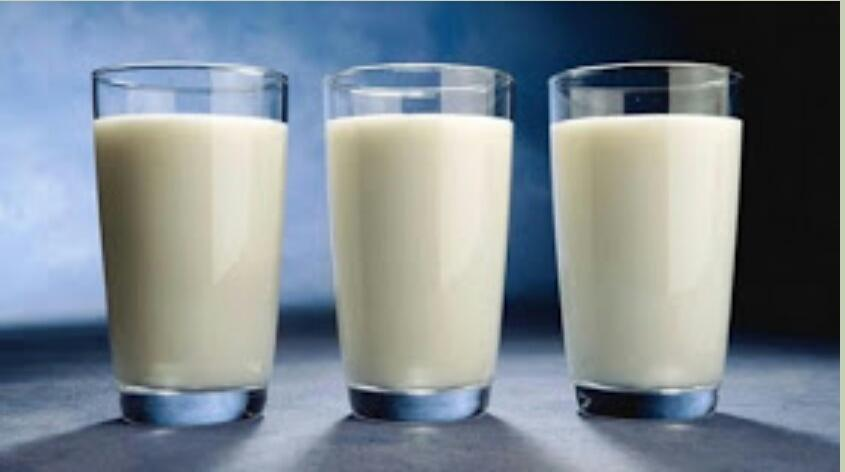produk_susu: (119, 79, 268, 400), (343, 79, 478, 412), (584, 85, 706, 408)
